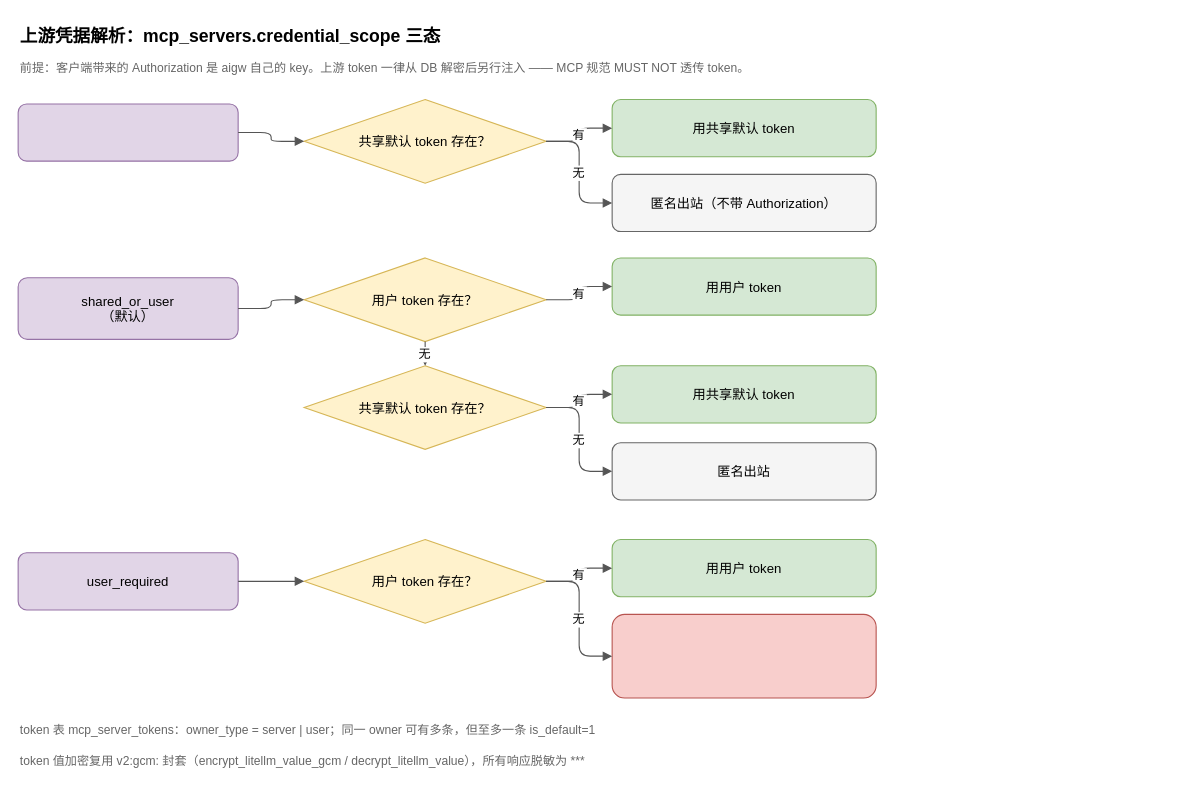
Some shapes in this 1180 by 789 pixel diagram are drawn without their labels. Each missing label, with the centre of its shape:
shared: point (127, 132)
此 server 对该用户不可见 工具列表里不出现 + /dash/mcp 提示补凭据: point (743, 655)
